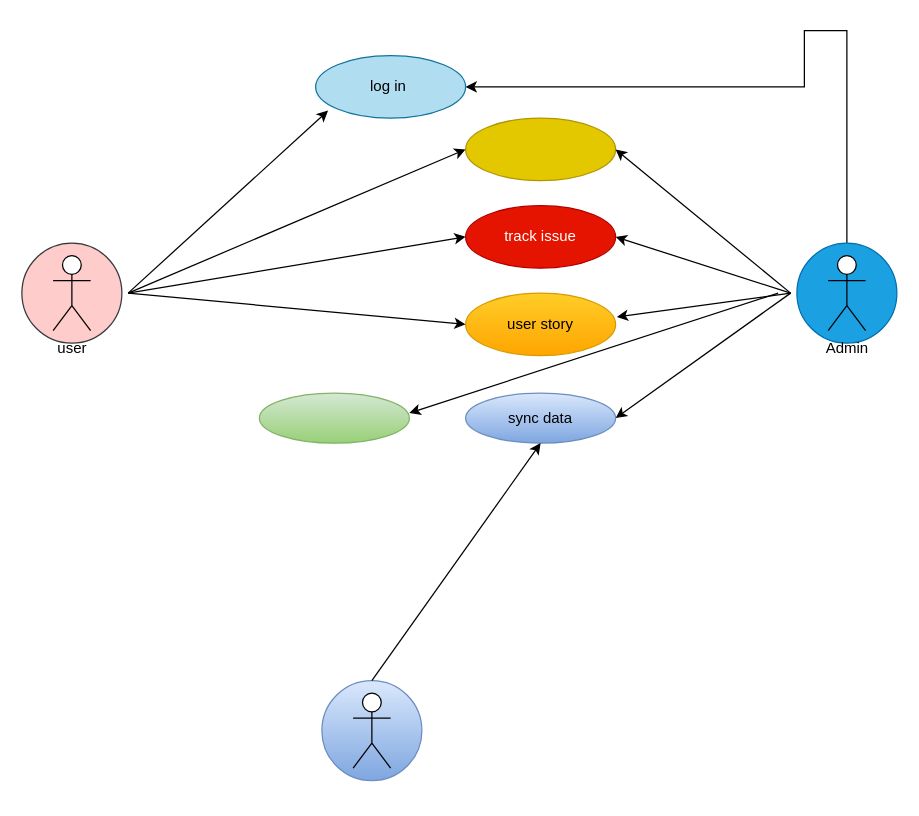
Image size: 919x816. Some labels were removed from this diagram. The shapes that lost their labels are listed below. From the top down, each one's box as (x1, y1, x2, y2) in pixels, then its label:
(464, 117, 616, 181): manage task
(258, 392, 409, 443): generate report
(352, 692, 391, 768): external sysem
